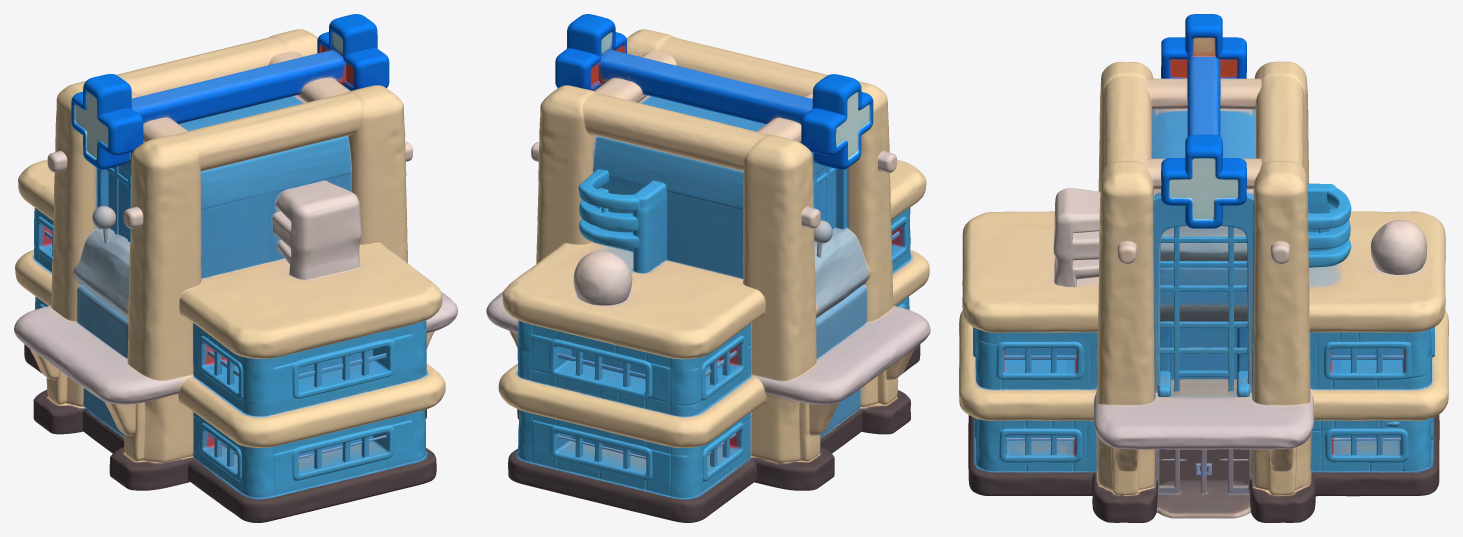
Rendered from City_Env_Hospital.glb.
3 views of the same model, side by side, from view 1: azimuth 30°, elevation 25°; view 2: azimuth 150°, elevation 25°; view 3: azimuth 270°, elevation 25° (orthographic).
Visible parts, largest first — view 1: tripo_node_4c031161-839a-470c-8f63-c108f35a8f12; view 2: tripo_node_4c031161-839a-470c-8f63-c108f35a8f12; view 3: tripo_node_4c031161-839a-470c-8f63-c108f35a8f12.
Part boxes in pixels (left/top/right/bottom): tripo_node_4c031161-839a-470c-8f63-c108f35a8f12: left=14, top=14, right=457, bottom=522; tripo_node_4c031161-839a-470c-8f63-c108f35a8f12: left=486, top=14, right=930, bottom=522; tripo_node_4c031161-839a-470c-8f63-c108f35a8f12: left=959, top=14, right=1448, bottom=522.
Size of the model in its own units: 0.8464 by 0.8328 by 1.
Materials: 1 (1 with a texture image).
